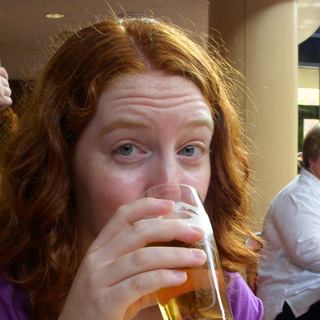eye: (106, 138, 152, 163), (167, 139, 207, 164)
